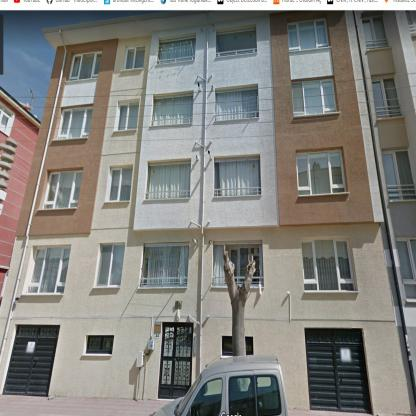door: (305, 328, 372, 414), (4, 326, 59, 394), (158, 323, 194, 398)
window: (302, 240, 356, 292), (296, 149, 347, 196), (26, 246, 70, 294), (141, 244, 188, 284), (224, 242, 263, 287), (214, 158, 260, 196), (292, 78, 337, 116), (383, 150, 415, 200), (146, 163, 190, 199), (42, 170, 82, 208), (215, 88, 259, 120), (288, 19, 328, 52), (152, 94, 193, 126), (395, 237, 415, 301), (95, 245, 125, 287), (56, 106, 93, 140), (372, 78, 402, 118), (158, 36, 195, 62), (69, 52, 101, 80), (107, 168, 132, 201), (363, 16, 388, 48), (115, 101, 139, 131), (213, 244, 227, 286), (124, 46, 146, 70), (86, 336, 113, 354), (0, 103, 14, 134), (406, 11, 416, 34), (222, 337, 232, 355), (246, 337, 252, 354)
